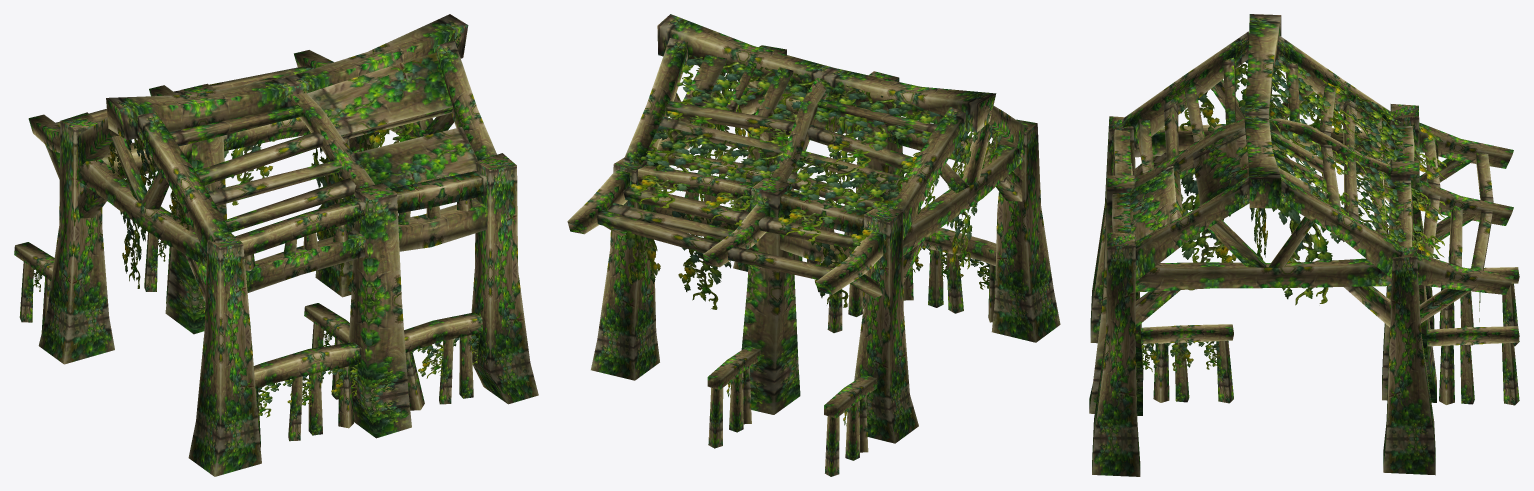
File: greenhouse01.obj
3 renders of one model, left to right at view 1: azimuth 30°, elevation 25°; view 2: azimuth 150°, elevation 25°; view 3: azimuth 270°, elevation 25°, orthographic. The views are drawn at different scales.
Visible parts, largest first — view 1: Greenhouse; view 2: Greenhouse; view 3: Greenhouse.
Boxes of the visible parts, x1,y1,x2,y2 form: Greenhouse: (14,14,538,476); Greenhouse: (567,14,1060,476); Greenhouse: (1089,14,1519,476).
Size of the model in its own units: 20.37 by 17.8 by 22.39.
2 materials, 2 textured.
